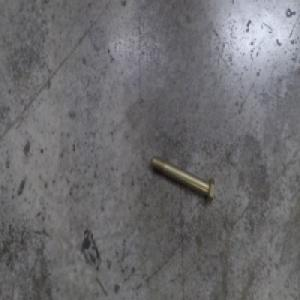Bolt: (150, 151, 216, 203)
